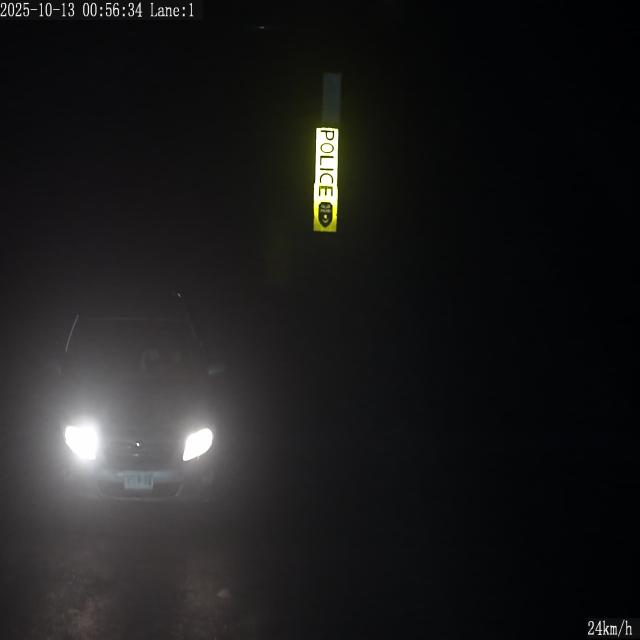BUS: (125, 472, 153, 489)
